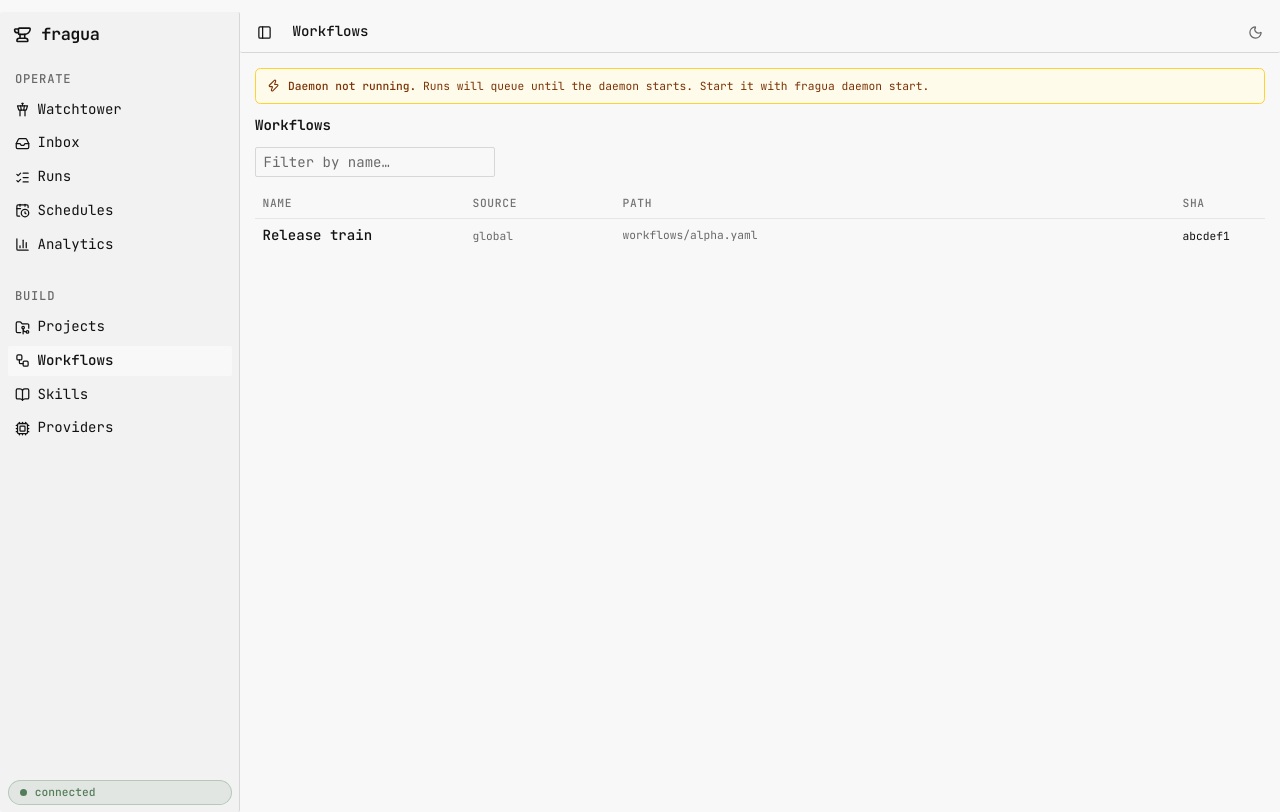
Test case: Workflows route › matches the display label case-insensitively and shows a no-match notice otherwise
Type "RELEASE" into the search field named "Filter workflows".
click(375, 162); type("RELEASE")  # box [255, 147, 495, 177]
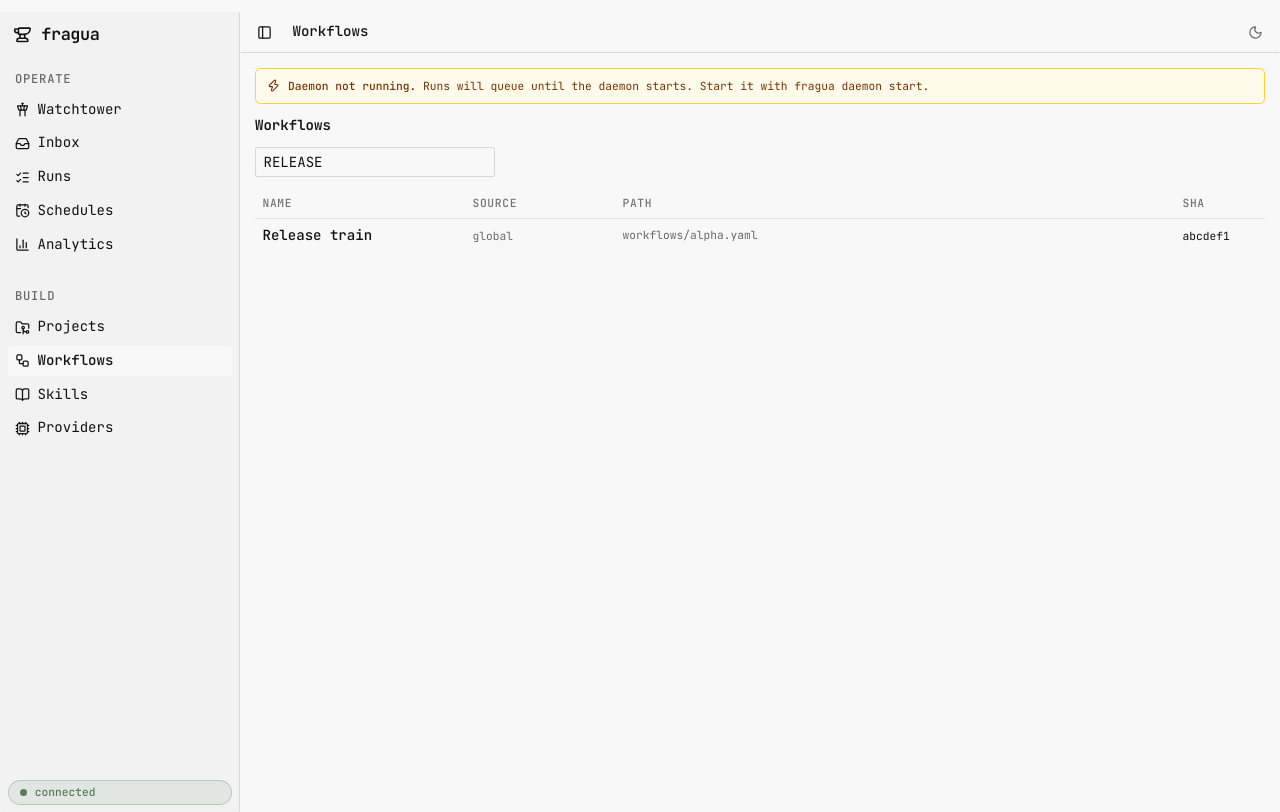
Expected: the row with test id "workflow-row-alpha" is shown, [255, 219, 1265, 252]
Replace the text in the search field named "Filter workflows" with "zzz" at [375, 162], box [255, 147, 495, 177]
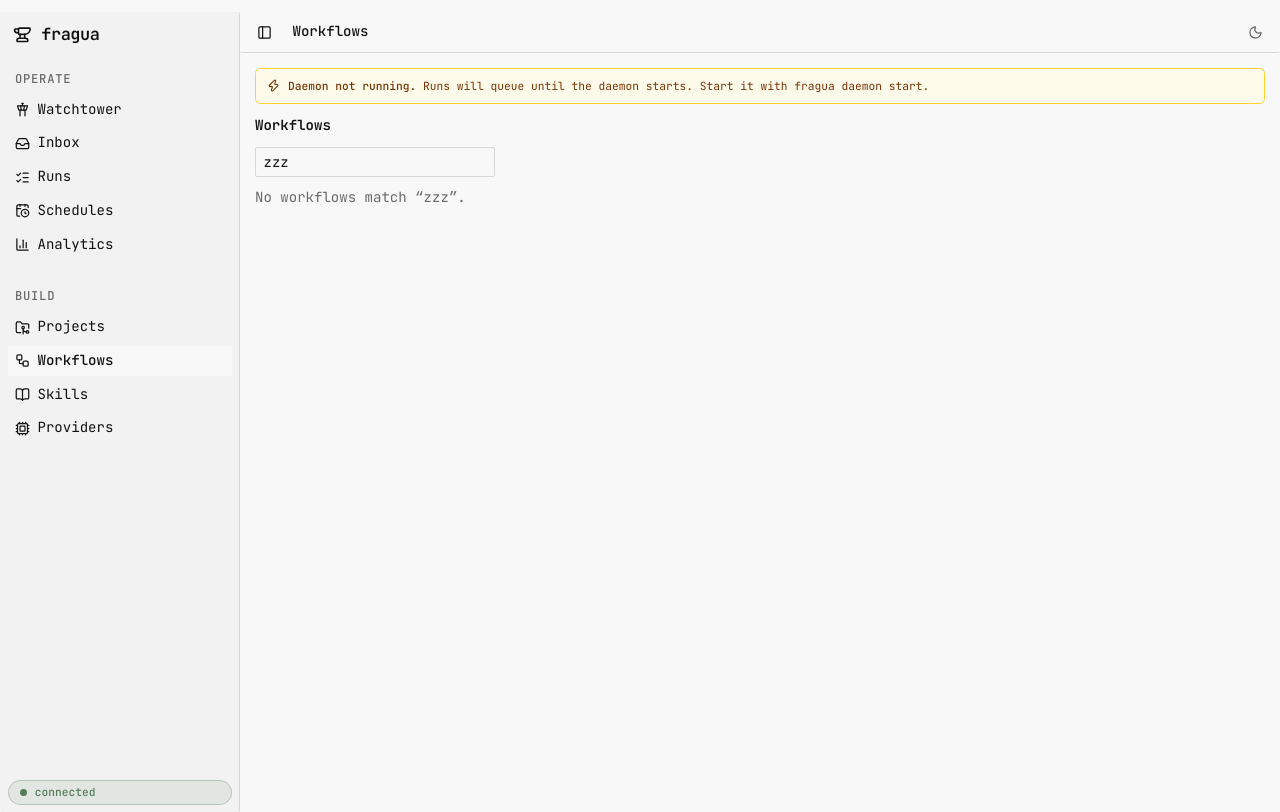
Expected: the table with test id "workflows-table" is gone
Expected: the text with test id "workflows-no-match" shows "zzz", [424, 188, 449, 206]
